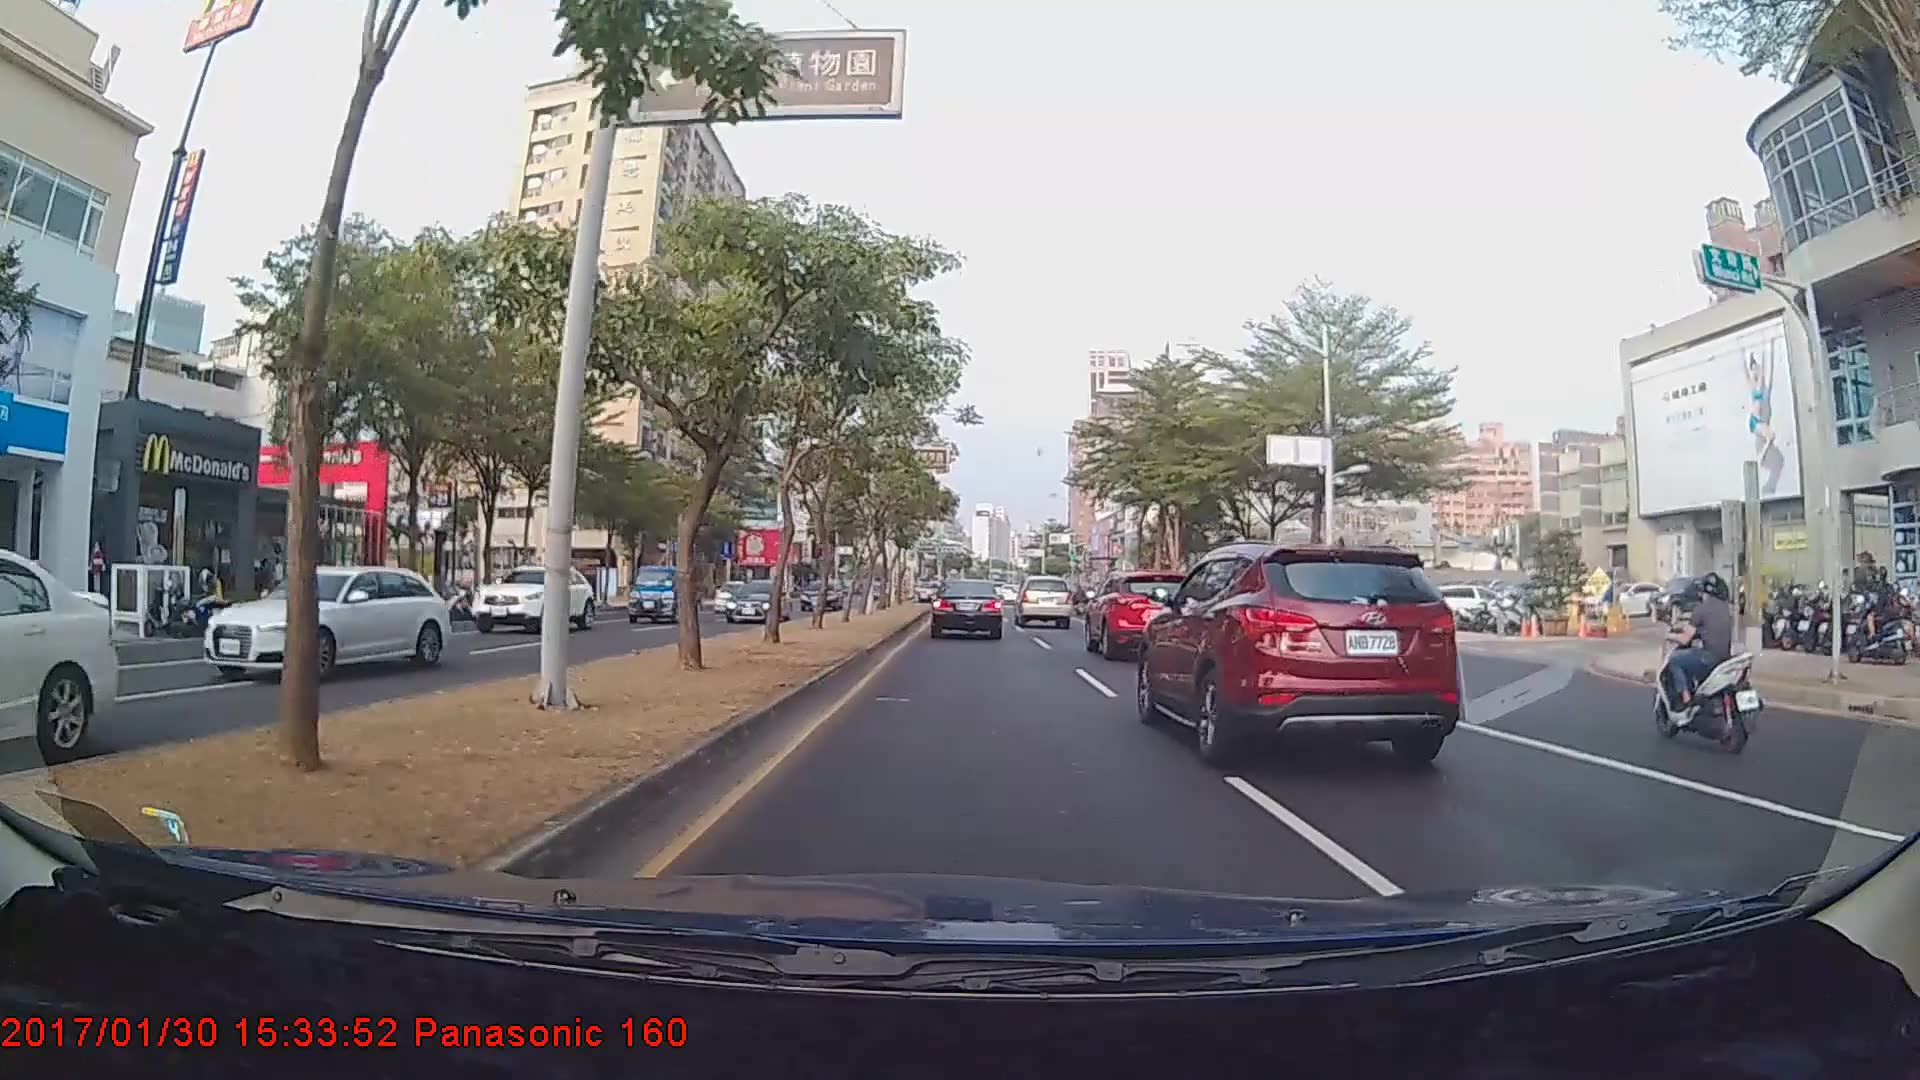rider: (1641, 568, 1762, 756)
vehicle: (1146, 540, 1455, 756), (197, 563, 453, 681), (0, 537, 120, 774), (1084, 572, 1210, 661), (474, 564, 601, 632), (929, 578, 1004, 640), (627, 561, 700, 623), (1013, 574, 1073, 628), (725, 580, 790, 624), (799, 576, 842, 611)
